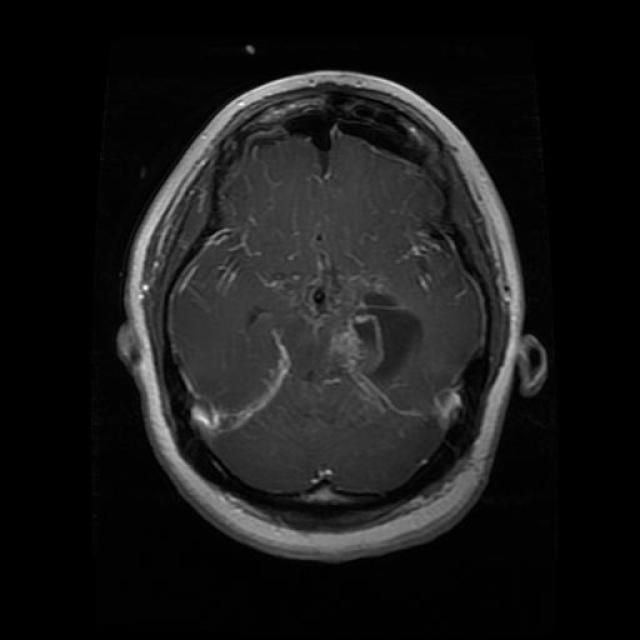glioma: (321, 275, 432, 400)
